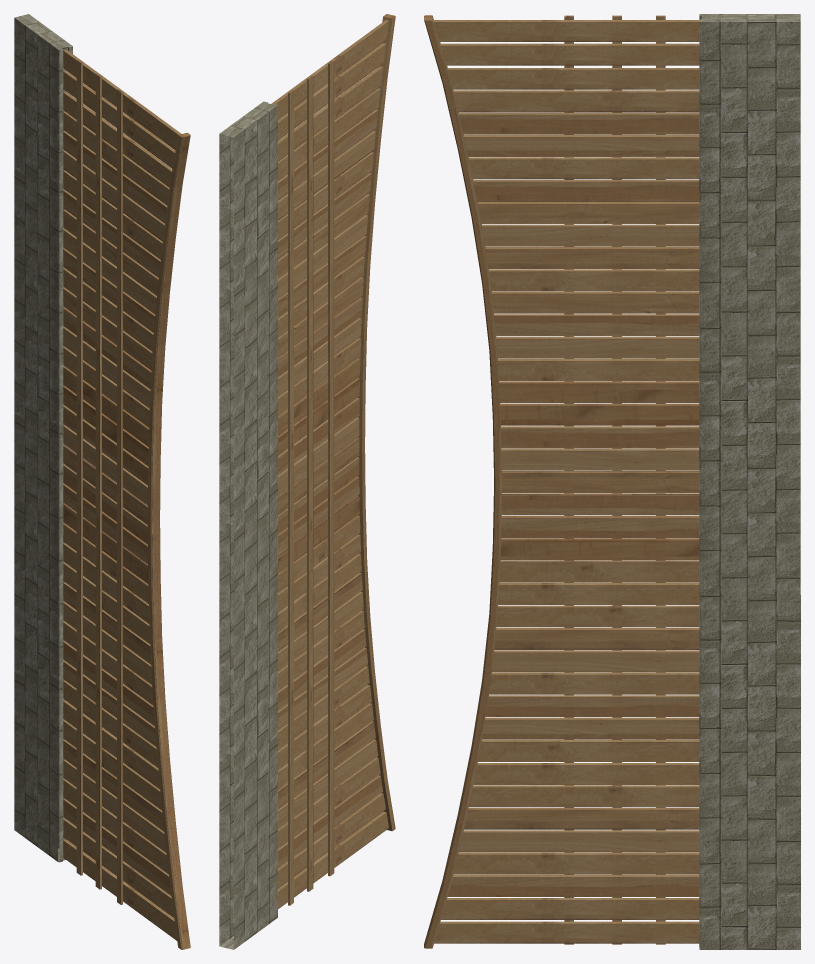
File: nt_concrete_fence_220_tall_LOD0.obj
3 views of the same model, side by side, from view 1: azimuth 30°, elevation 25°; view 2: azimuth 150°, elevation 25°; view 3: azimuth 270°, elevation 25° (orthographic). The views are drawn at different scales.
Visible parts, largest first — view 1: nt_wood_fence, nt_2020_concrete_pattern_02; view 2: nt_wood_fence, nt_2020_concrete_pattern_02; view 3: nt_wood_fence, nt_2020_concrete_pattern_02.
Boxes of the visible parts, x1,y1,x2,y2 form: nt_wood_fence: [63, 49, 190, 949]; nt_2020_concrete_pattern_02: [14, 14, 72, 862]; nt_wood_fence: [271, 14, 395, 908]; nt_2020_concrete_pattern_02: [219, 101, 277, 949]; nt_wood_fence: [424, 15, 699, 948]; nt_2020_concrete_pattern_02: [699, 14, 800, 949].
Size of the model in its own units: 10.16 by 538 by 198.
2 materials, 2 textured.
